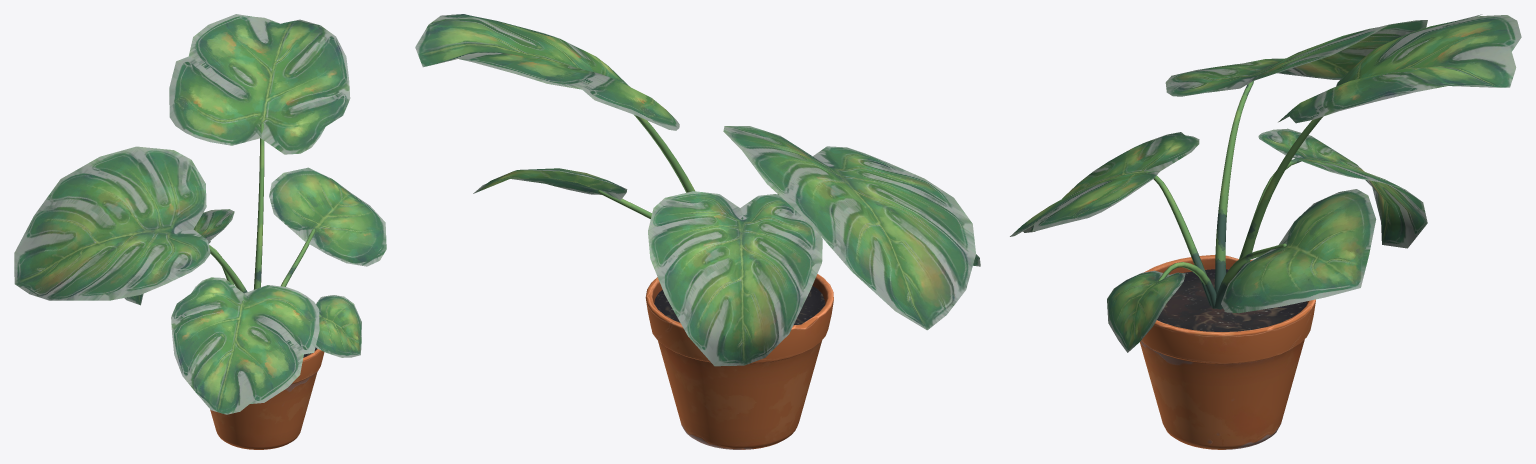
Rendered from PottedPlant.fbx.
3 renders of one model, left to right at view 1: azimuth 30°, elevation 25°; view 2: azimuth 150°, elevation 25°; view 3: azimuth 270°, elevation 25°, orthographic. The views are drawn at different scales.
Parts seen in each view (by area): view 1: Combined_PottedPlant; view 2: Combined_PottedPlant; view 3: Combined_PottedPlant.
Part boxes in pixels (x1,y1,x2,y2): Combined_PottedPlant: (14,14,386,449); Combined_PottedPlant: (415,14,980,449); Combined_PottedPlant: (1010,14,1521,449).
Size of the model in its own units: 129 by 117 by 121.
